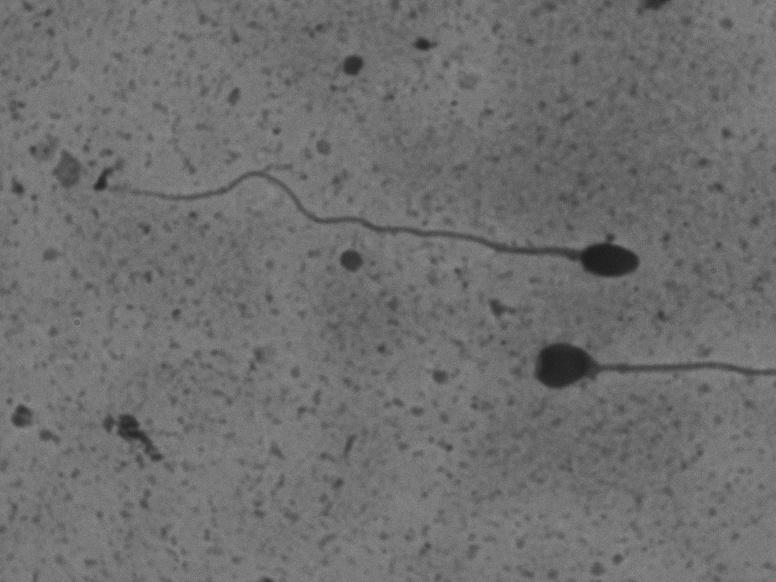Abnormal: (504, 315, 750, 447)
Normal: (98, 139, 666, 290)
